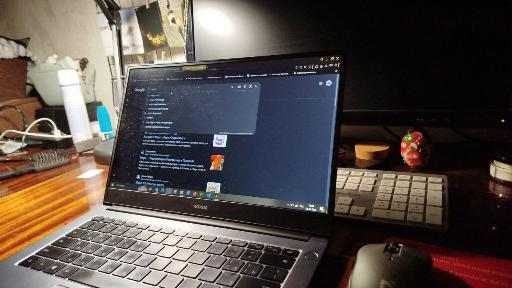google: (109, 76, 338, 191)
